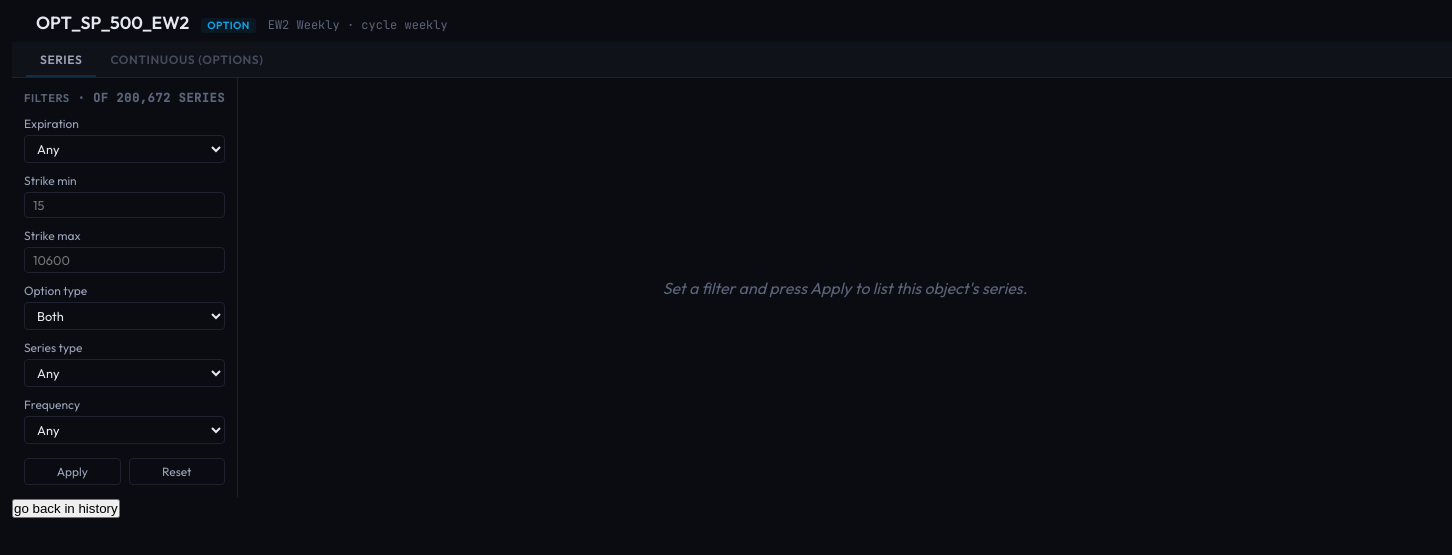
it: ObjectDetail filter state in the URL › records an Apply that narrows nothing, which an empty URL cannot express
Click the button "Apply".
click(72, 472)  # box [24,458,120,485]
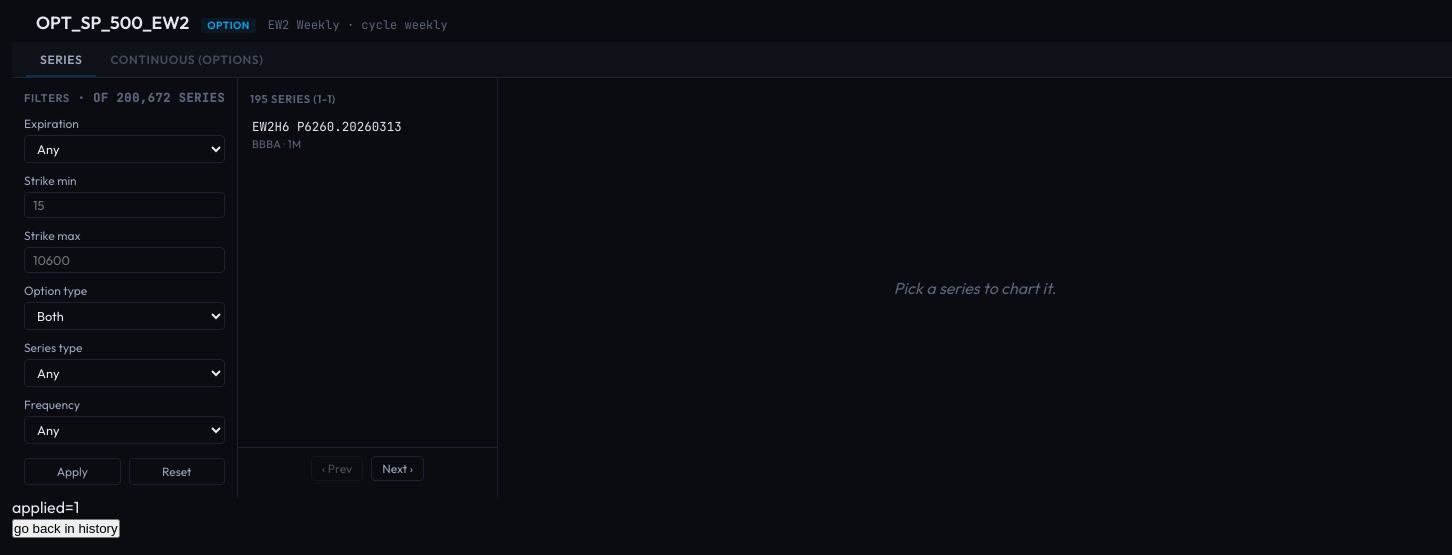
Check: the text "EW2H6 P6260.20260313" is shown, box [252,118,402,135]
